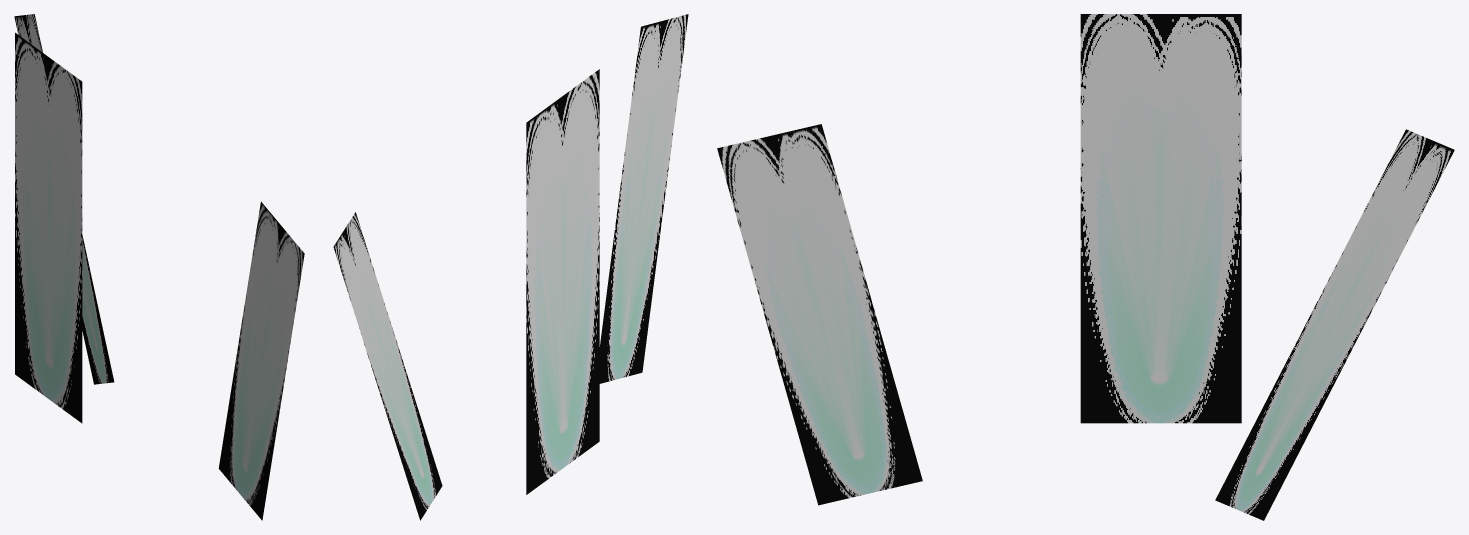
File: LightBeams.fbx
3 renders of one model, left to right at view 1: azimuth 30°, elevation 25°; view 2: azimuth 150°, elevation 25°; view 3: azimuth 270°, elevation 25°, orthographic. The views are drawn at different scales.
Visible parts, largest first — view 1: LightBeams; view 2: LightBeams; view 3: LightBeams.
Boxes of the visible parts, x1,y1,x2,y2 form: LightBeams: (14,14,304,520); LightBeams: (333,14,688,520); LightBeams: (717,14,1454,520).
Size of the model in its own units: 1.03 by 4.25 by 6.24.
Materials: 1 (1 with a texture image).
